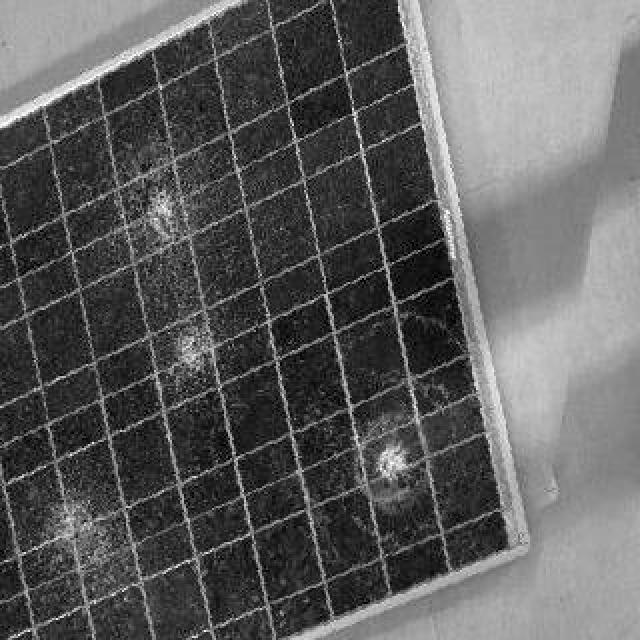Dusty: (229, 63, 410, 281), (148, 474, 346, 640), (9, 239, 141, 442)
Physical-damage: (49, 491, 127, 578), (165, 307, 226, 390), (127, 183, 199, 247), (363, 437, 431, 497)
